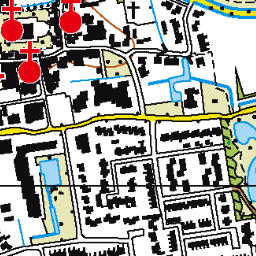church: (16, 40, 45, 85), (1, 1, 25, 43), (57, 1, 85, 37)
